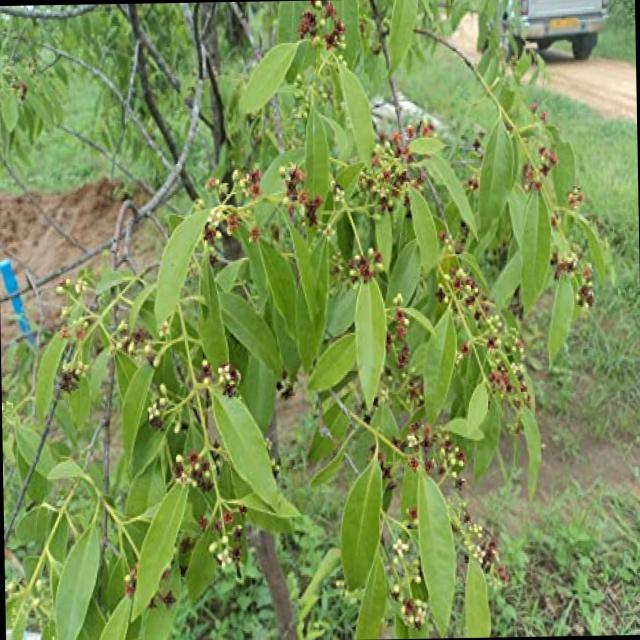Medicinal-Sandalwood: (0, 21, 628, 640)
